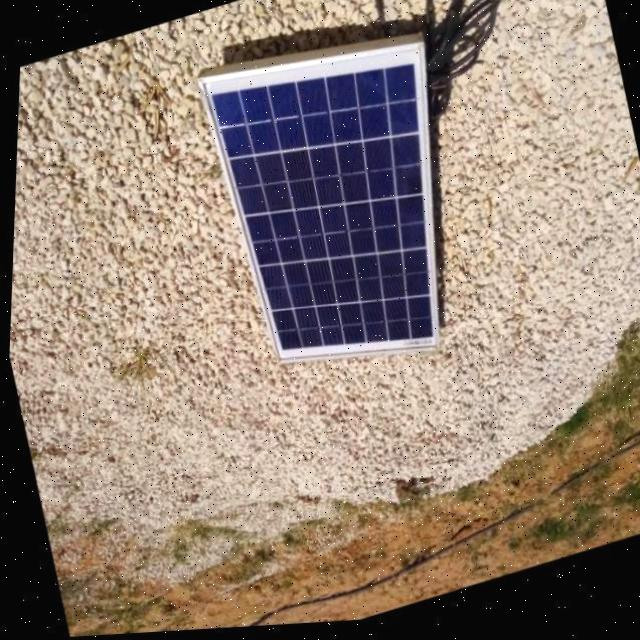Normal Solar Panel: (184, 17, 492, 409)
